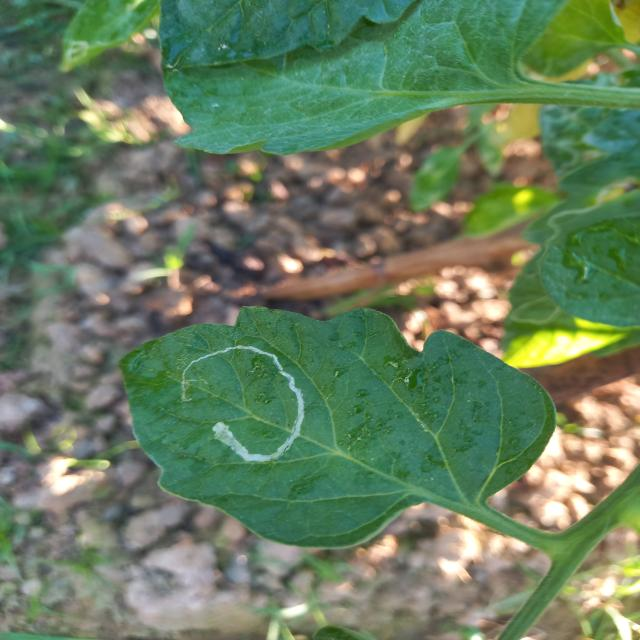Tuta absoluta: (167, 316, 328, 479)
